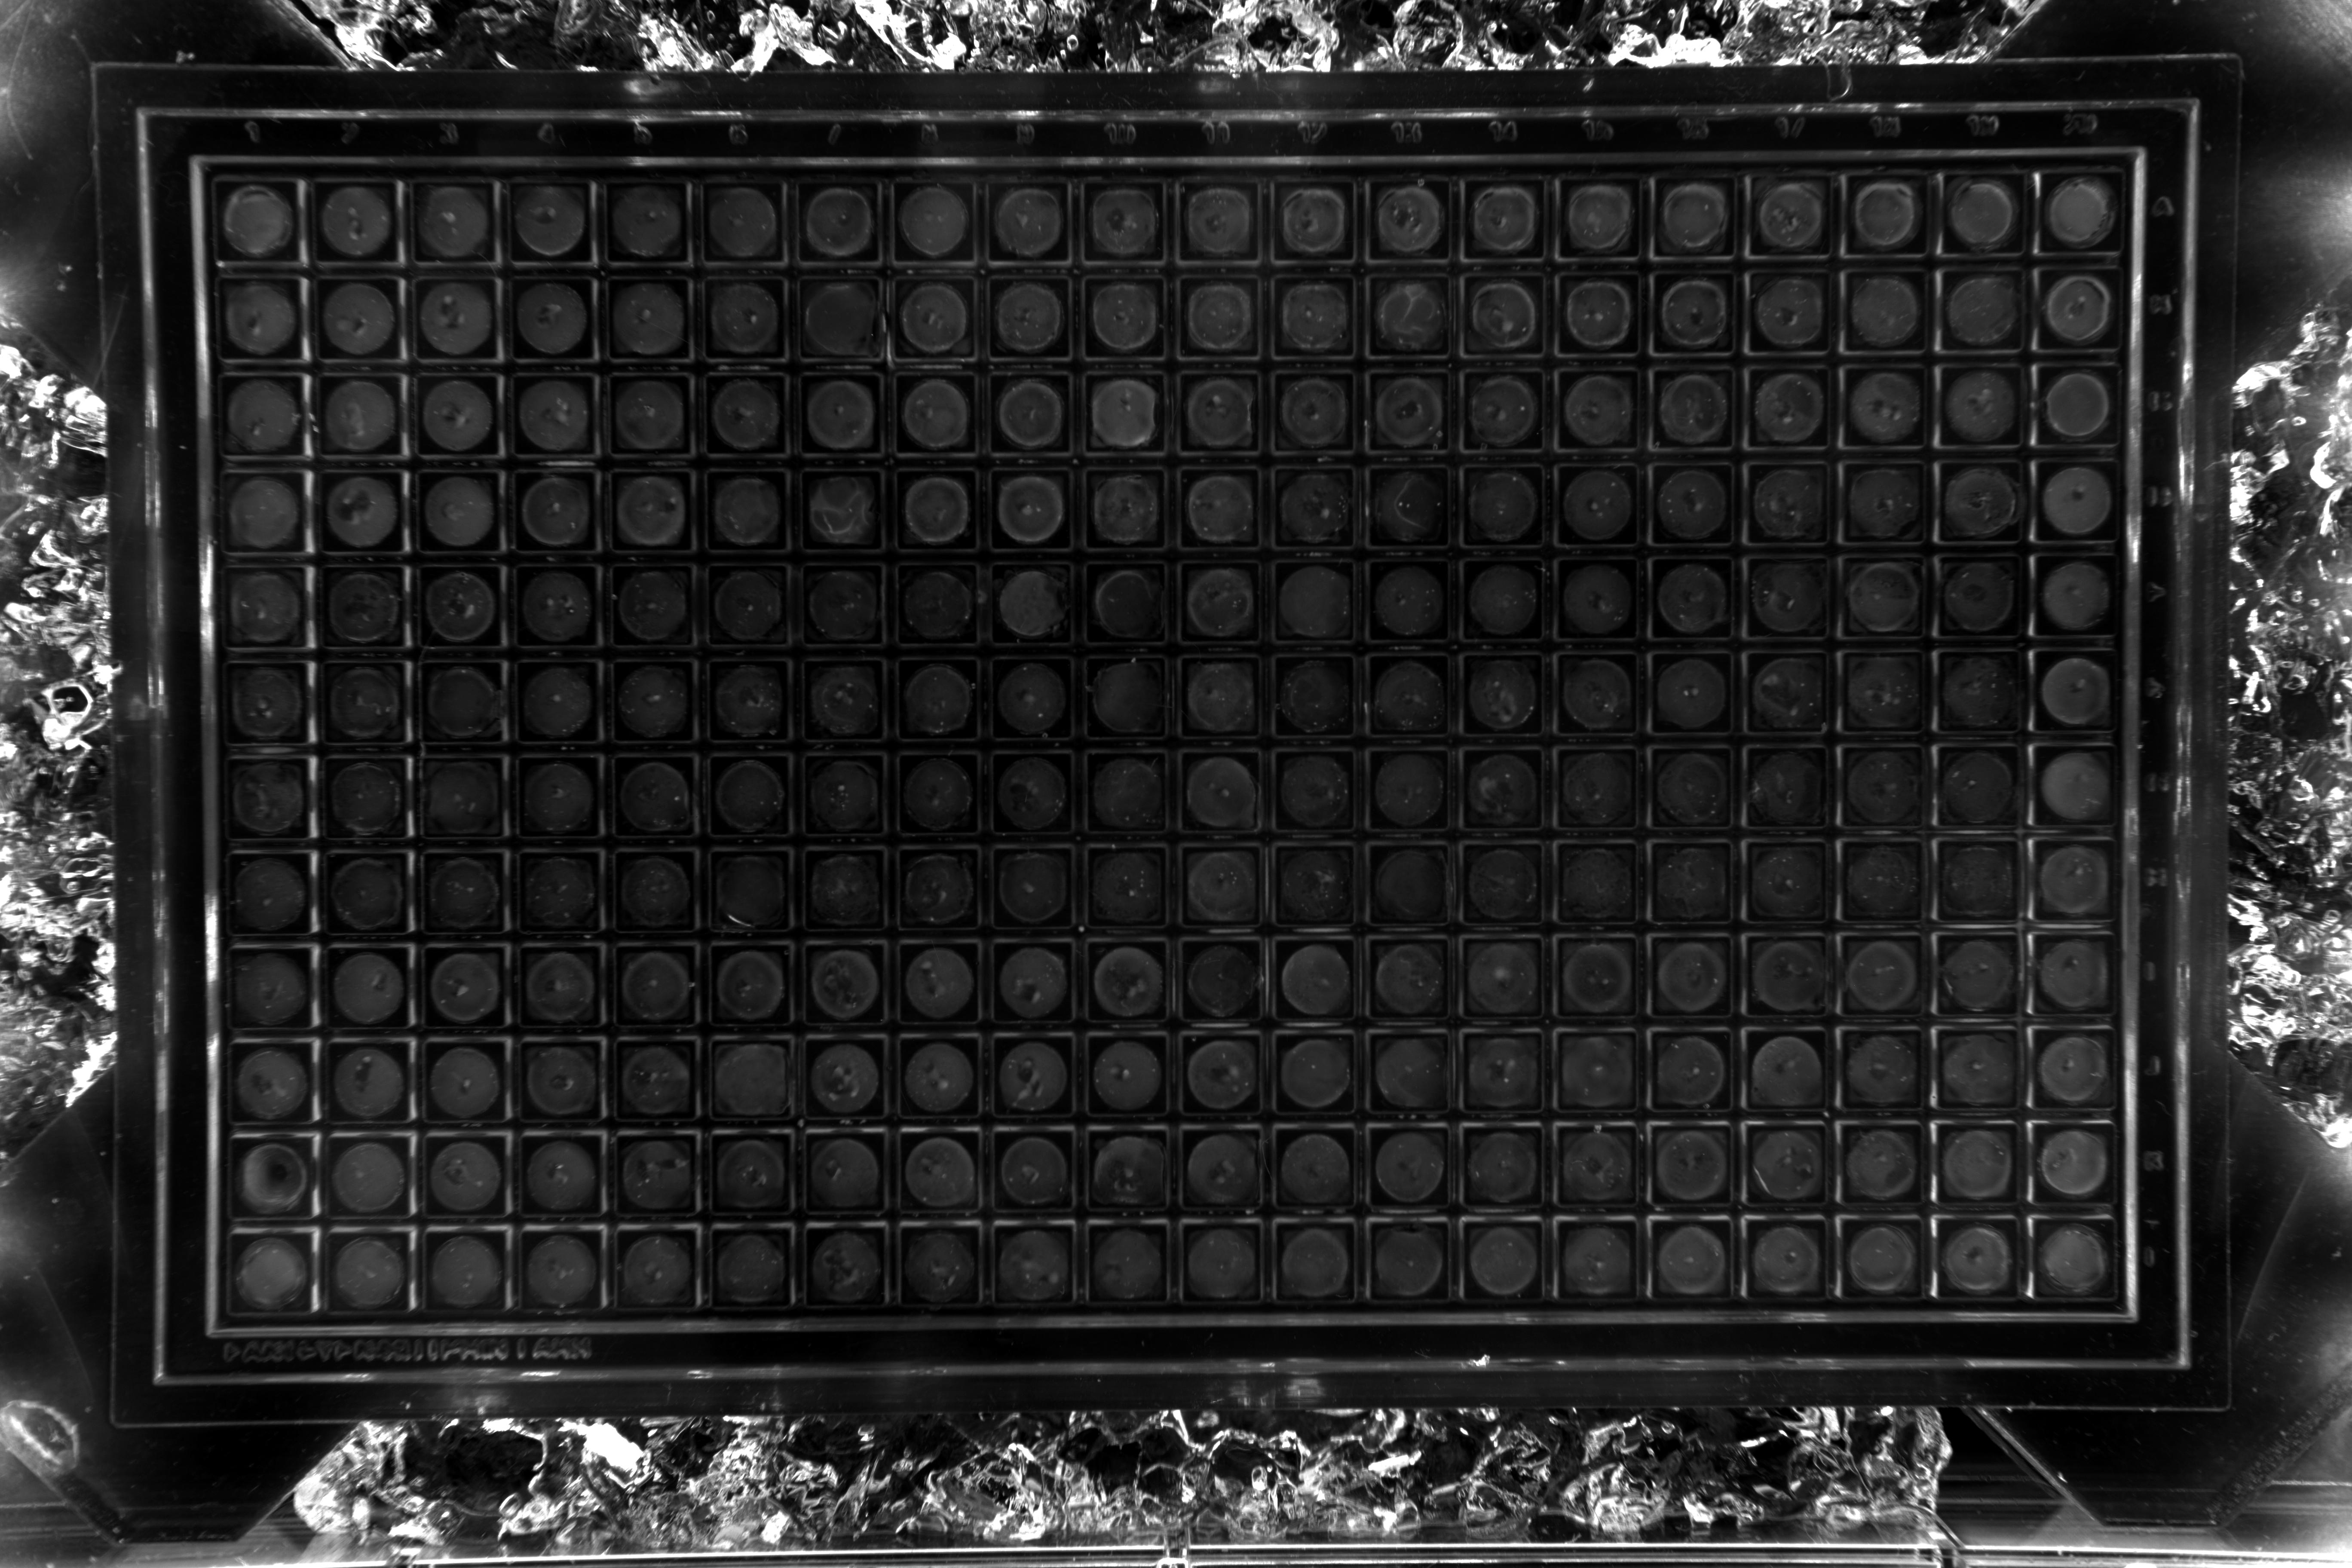WM_well: (497, 1214, 586, 1302), (290, 238, 378, 325), (303, 1022, 390, 1109), (392, 338, 479, 425), (401, 926, 488, 1013), (401, 1216, 488, 1304), (488, 238, 576, 325), (499, 1020, 586, 1108), (787, 534, 875, 621), (980, 241, 1067, 329), (1080, 1113, 1167, 1200), (1176, 436, 1263, 523), (1176, 920, 1263, 1008), (1272, 1017, 1360, 1104), (1272, 822, 1360, 910), (1274, 338, 1361, 425), (1465, 1211, 1552, 1298), (1466, 726, 1554, 814), (1561, 1211, 1648, 1298), (1661, 1017, 1748, 1104), (1760, 724, 1848, 812), (1858, 920, 1946, 1008), (1865, 131, 1953, 219), (1958, 822, 2046, 910)
